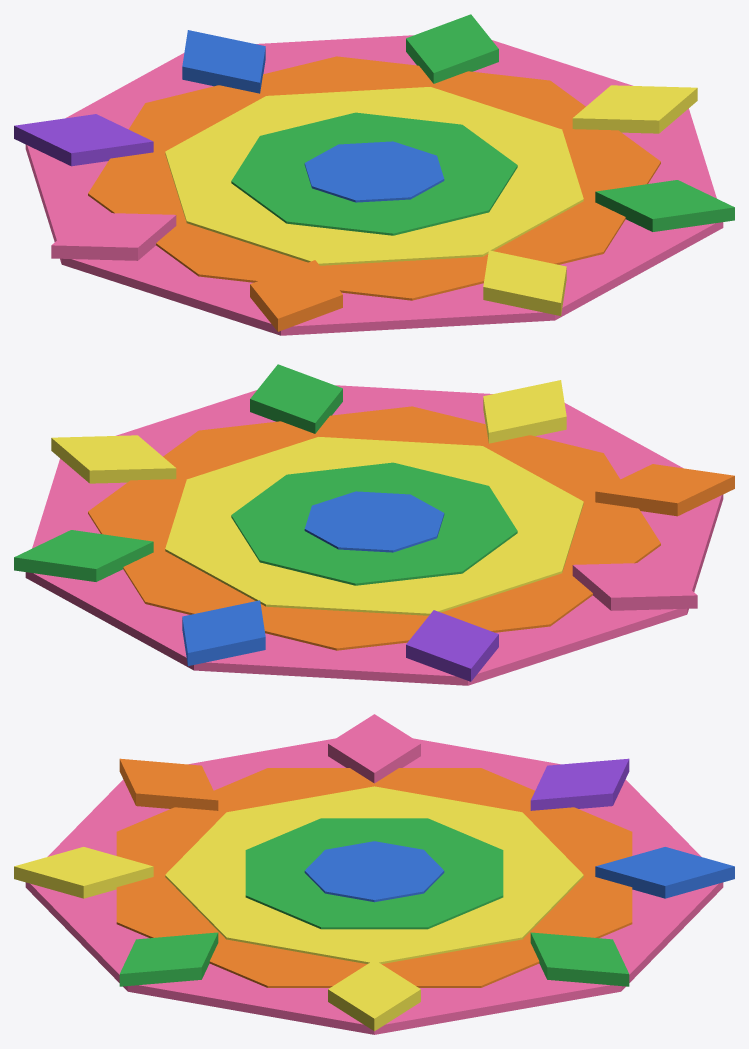
File: Rangoli.fbx
The picture shows the model from 3 angles, top to bottom: view 1: azimuth 30°, elevation 25°; view 2: azimuth 150°, elevation 25°; view 3: azimuth 270°, elevation 25°; orthographic projection. The views are drawn at different scales.
Visible parts, largest first — view 1: Rangoli; view 2: Rangoli; view 3: Rangoli.
Boxes of the visible parts, x1,y1,x2,y2 form: Rangoli: (14, 14, 734, 335); Rangoli: (14, 364, 734, 685); Rangoli: (14, 714, 734, 1034).
Size of the model in its own units: 6.2 by 0.2 by 6.2.
1 material, 1 textured.
